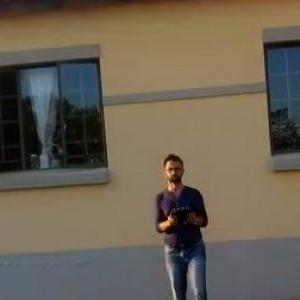follow: (150, 149, 217, 299)
